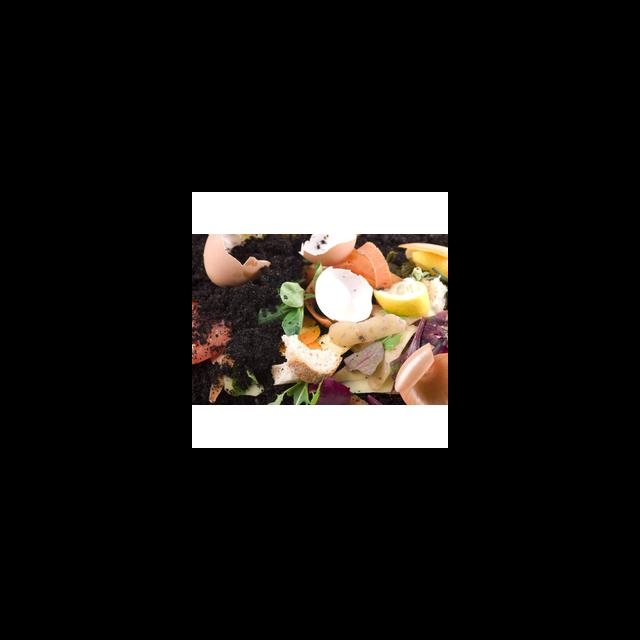food_waste: (272, 235, 448, 403), (203, 236, 264, 285), (192, 302, 231, 363), (210, 353, 259, 400)
